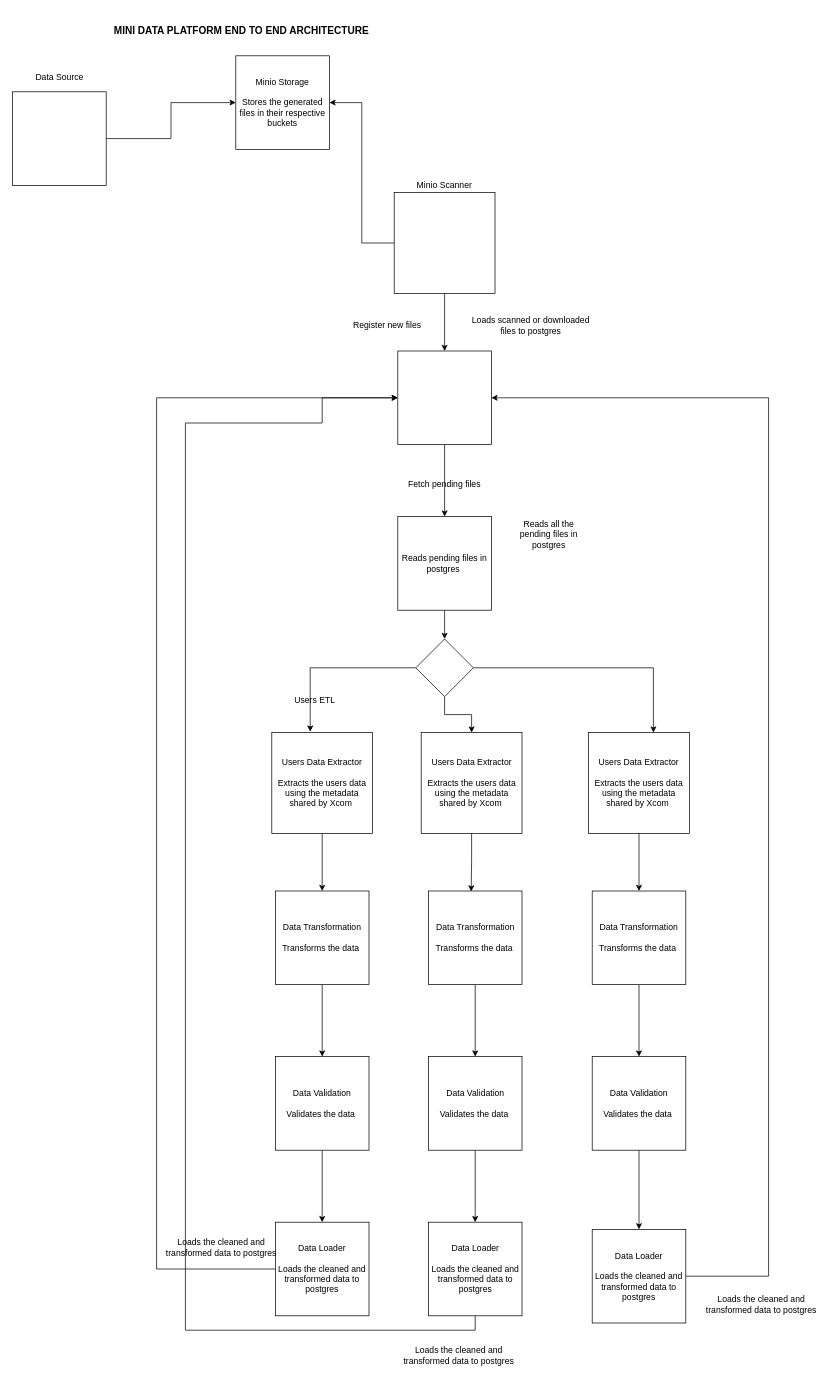
This 839x1385 diagram has some shape labels left out. The centre of each missing label's shape, as x and y in pixels:
"Data Generator Generates users, products, orders and order items files" belongs at pixel 59 138.
"Data Outsourcing Scans minio buckets for new files" belongs at pixel 444 242.
"Postgres" belongs at pixel 444 397.
